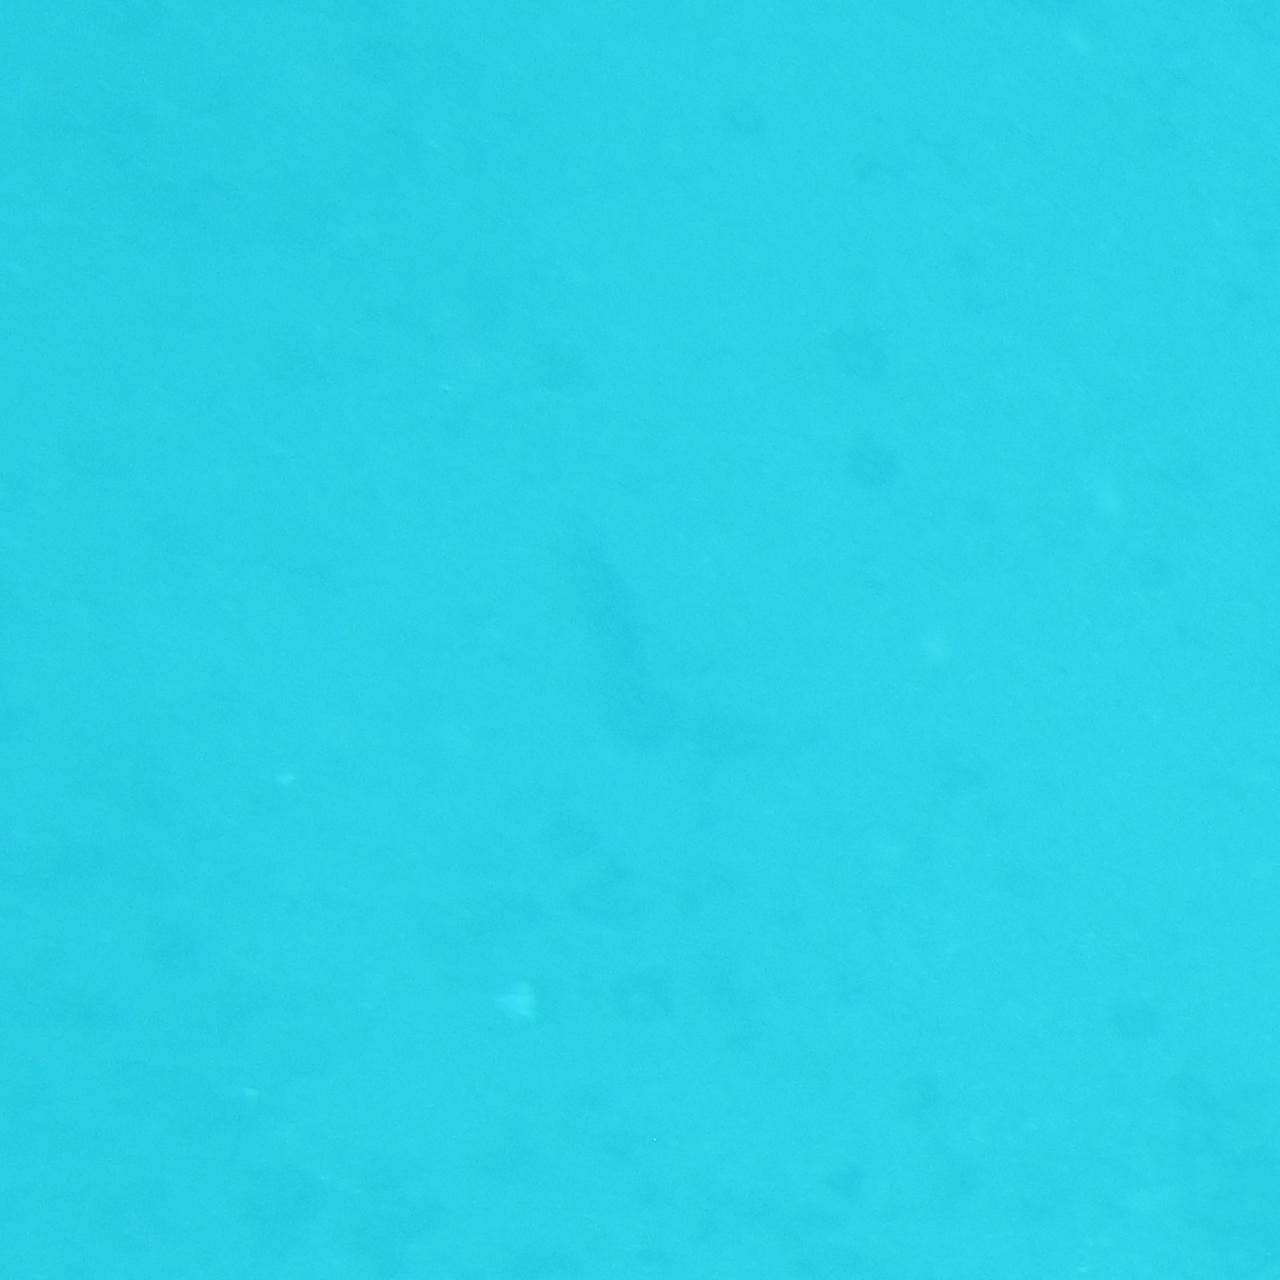Holothuria tubulosa: (579, 513, 701, 767)
